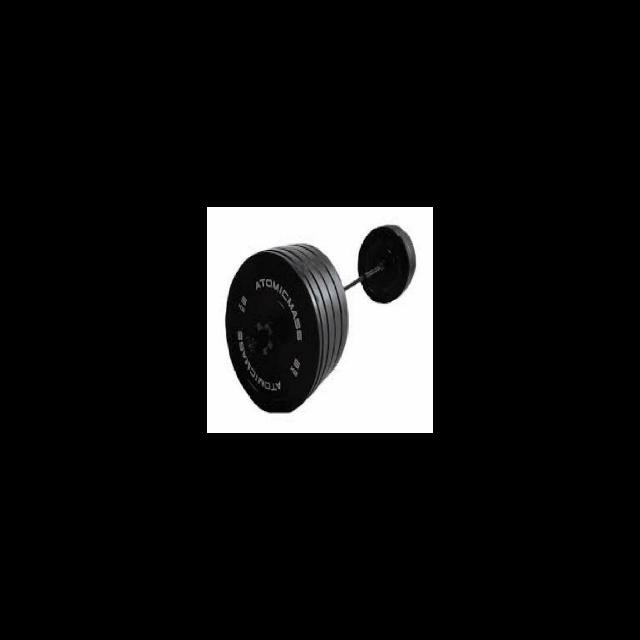barbell: (225, 248, 322, 416)
